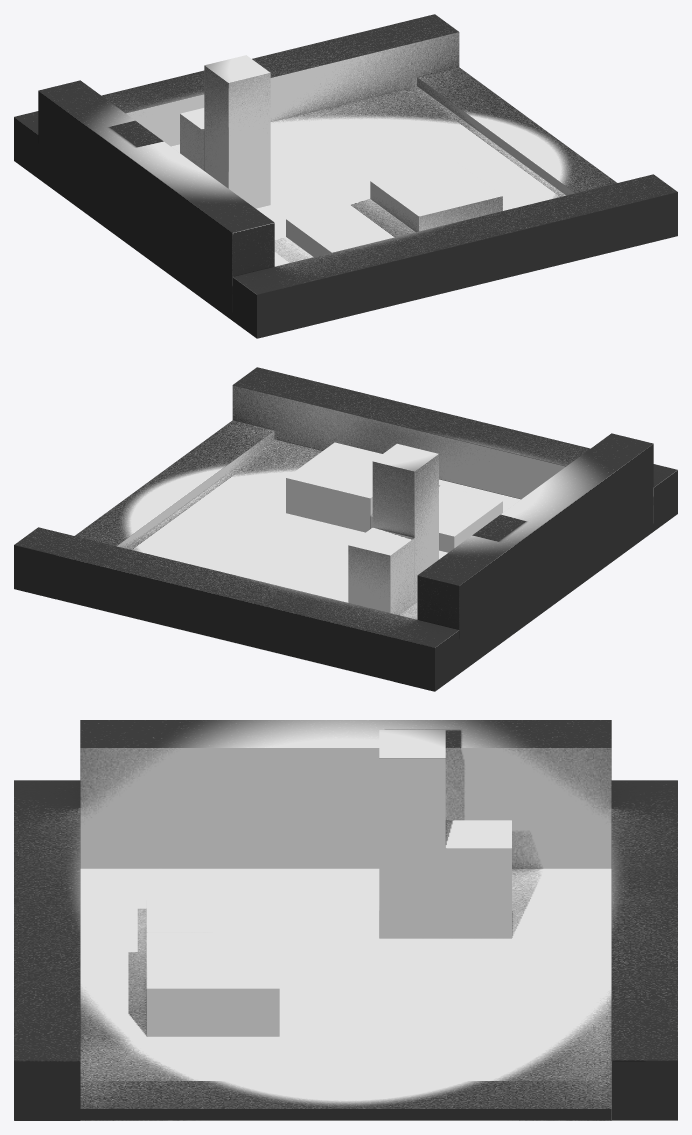
Rendered from simple10x10_simple_j.fbx.
The picture shows the model from 3 angles, top to bottom: view 1: azimuth 30°, elevation 25°; view 2: azimuth 150°, elevation 25°; view 3: azimuth 270°, elevation 25°; orthographic projection. The views are drawn at different scales.
Parts seen in each view (by area): view 1: simple_world1; view 2: simple_world1; view 3: simple_world1.
Boxes of the visible parts, box(x1,y1,x2,y2) form: simple_world1: box(14, 14, 677, 338); simple_world1: box(14, 367, 677, 691); simple_world1: box(14, 720, 677, 1120).
Size of the model in its own units: 1000 by 300 by 1000.
1 material, 1 textured.
